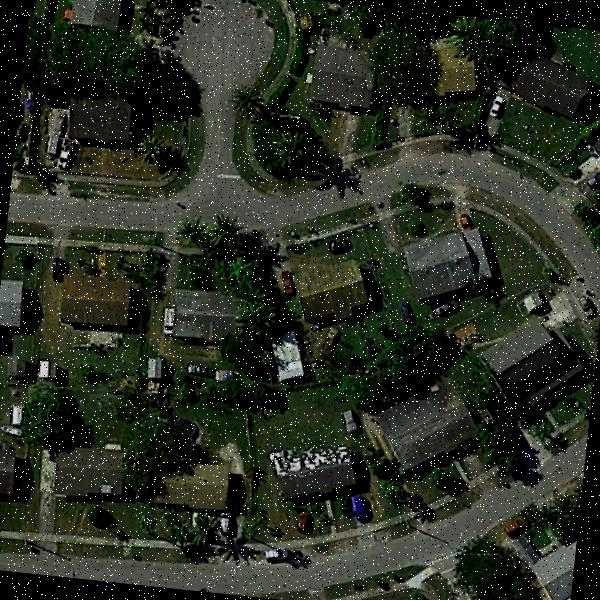Buildings: (378, 394, 470, 466), (400, 230, 485, 304), (482, 321, 567, 392), (42, 443, 118, 504), (154, 454, 234, 508), (516, 64, 595, 116), (422, 36, 478, 102), (279, 444, 346, 494), (172, 292, 237, 340), (62, 274, 126, 322), (66, 94, 124, 144), (305, 268, 368, 311), (68, 0, 131, 32), (312, 54, 372, 86), (0, 269, 25, 338), (0, 447, 17, 496)
